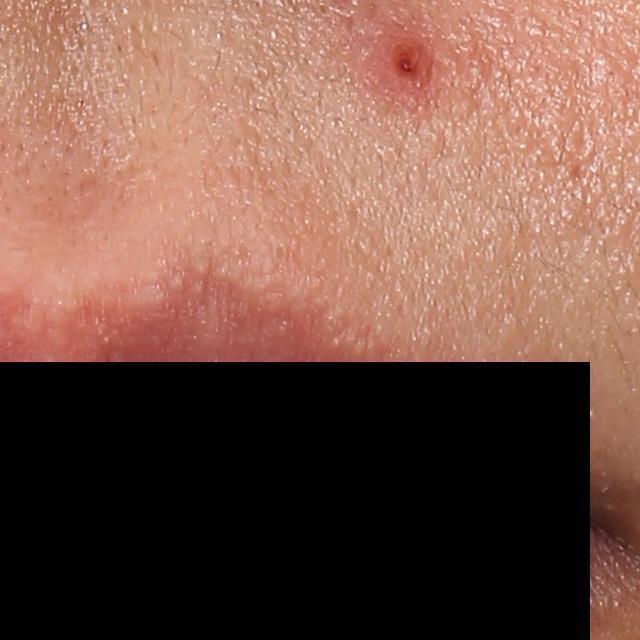papule: (380, 26, 436, 90)
